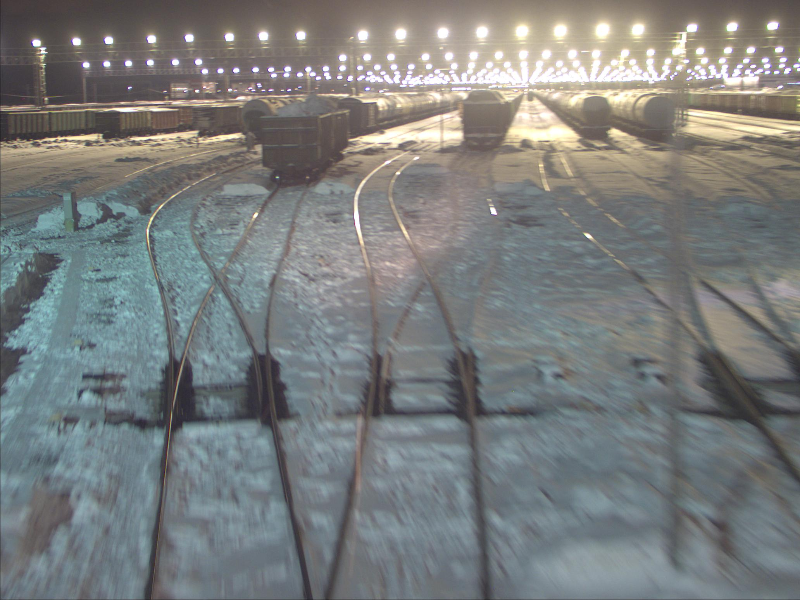left: (365, 274, 475, 418)
right: (160, 281, 275, 419)
